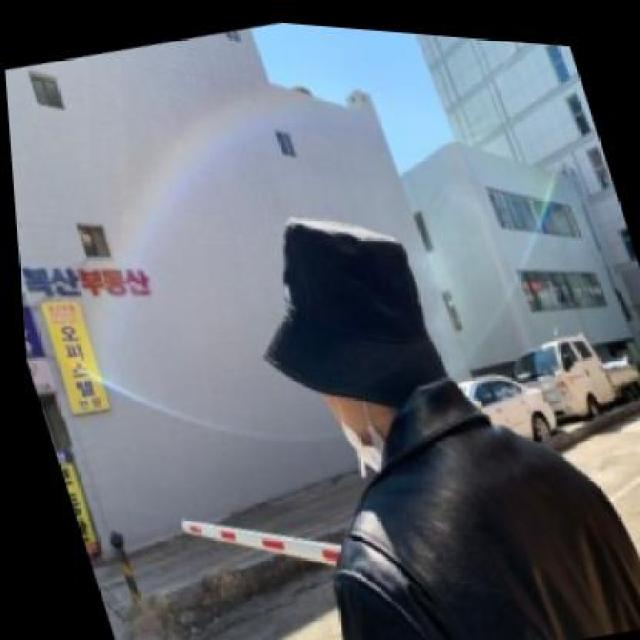hat: (212, 175, 458, 439)
